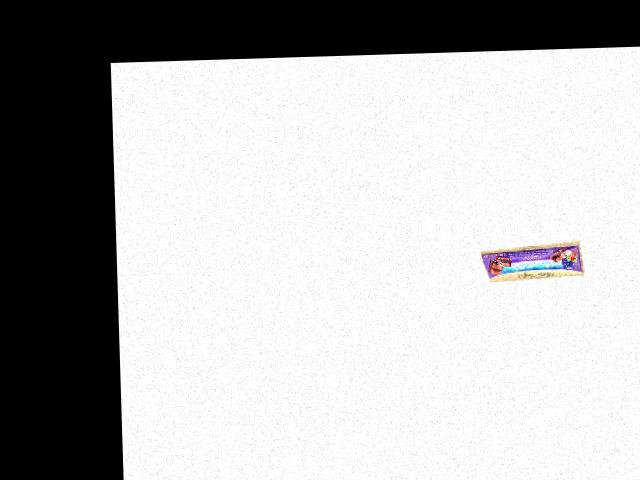chocolate: (475, 240, 584, 278)
